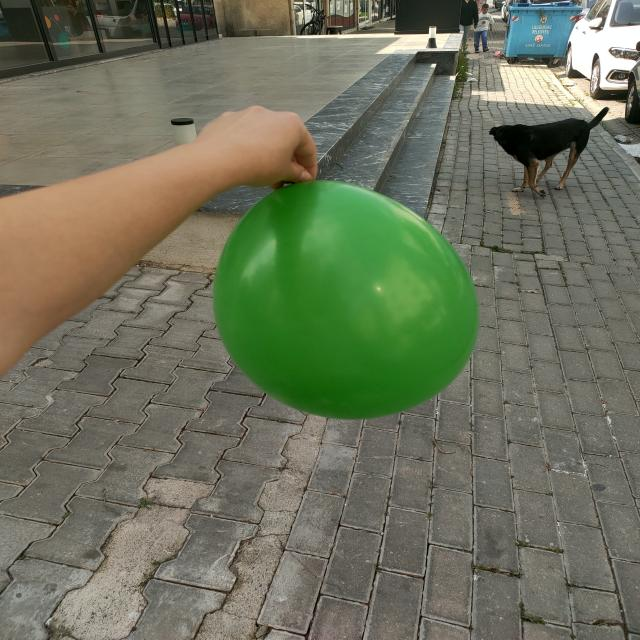green: (216, 181, 479, 421)
